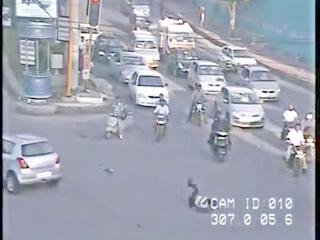Car: (1, 132, 64, 189)
Motor: (101, 96, 132, 142), (183, 178, 219, 212), (152, 95, 170, 141)
